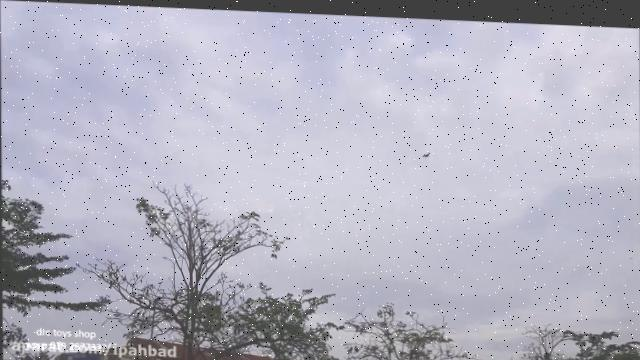drone: (422, 147, 432, 155)
